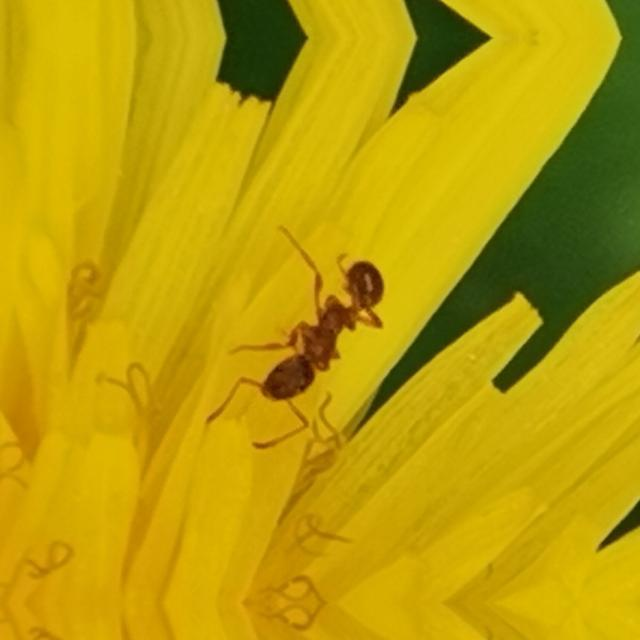Myrmica: (208, 230, 408, 442)
